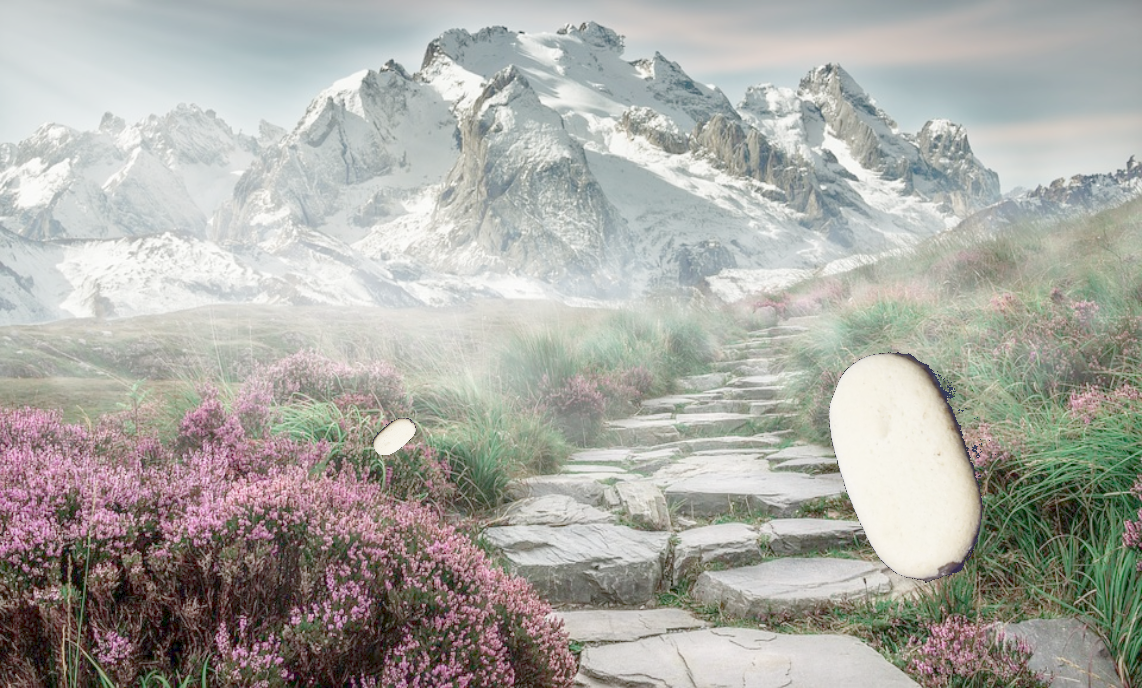test: (779, 330, 1046, 603), (371, 413, 416, 456)
